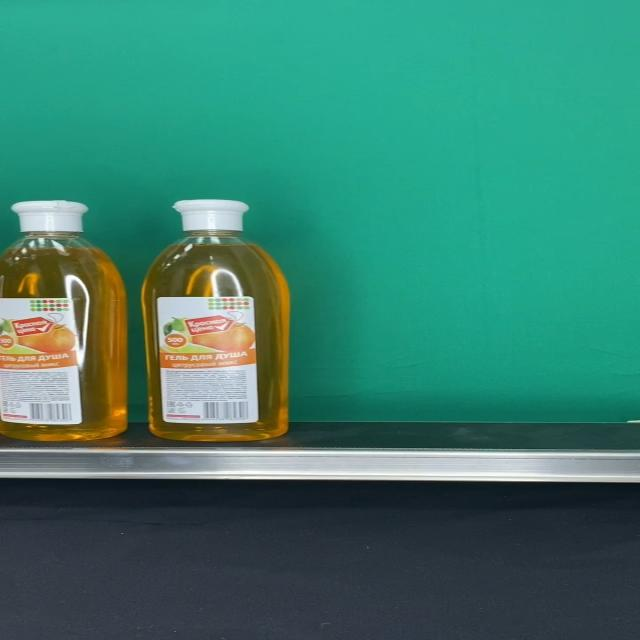Bottle: (140, 200, 290, 441), (0, 200, 128, 441)
Cap: (11, 200, 90, 233), (171, 200, 249, 232)
